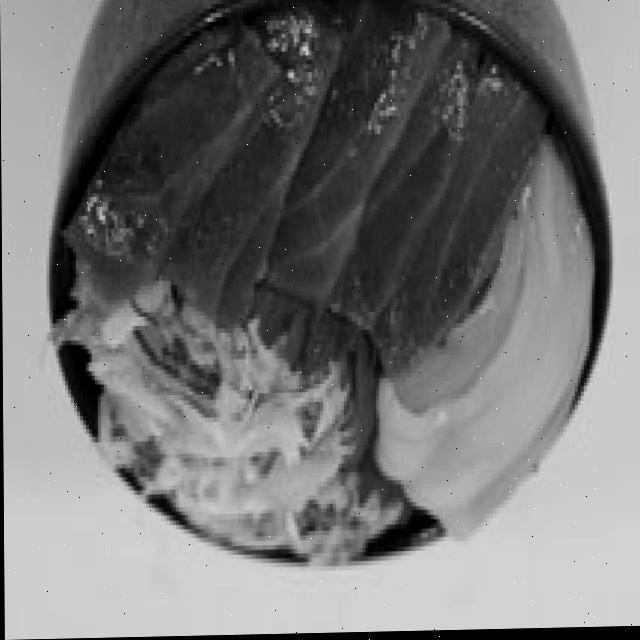刺身生食: (36, 0, 625, 581)
